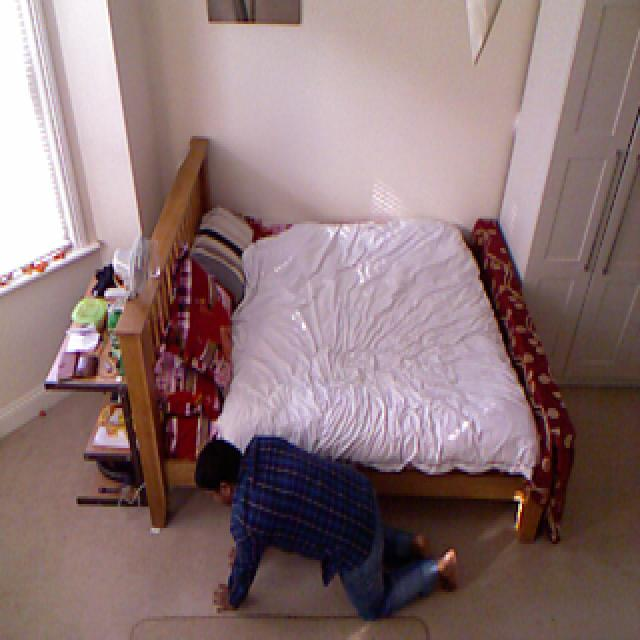crawling: (196, 430, 461, 616)
